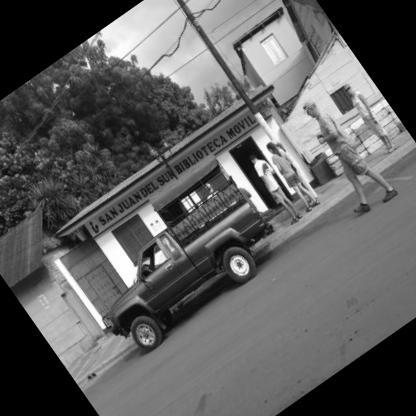truck: (62, 164, 306, 378)
